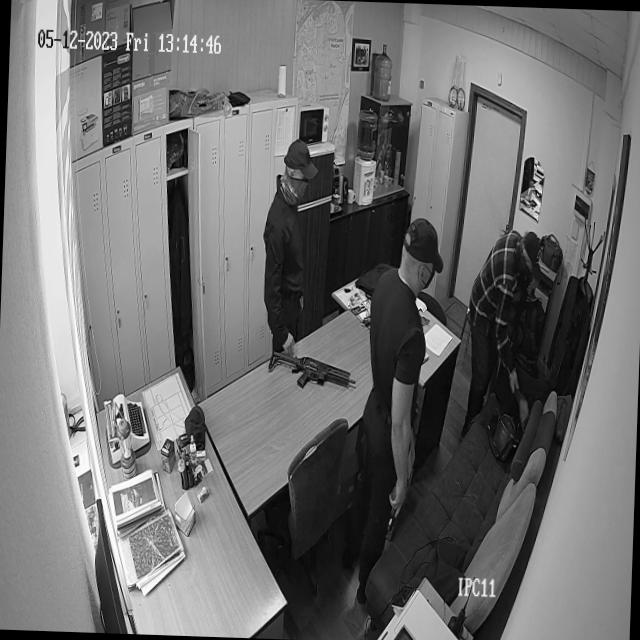gun: (262, 340, 358, 400), (386, 479, 406, 548)
person: (462, 223, 540, 410)
person with a gun: (356, 209, 446, 536), (258, 136, 357, 414)
